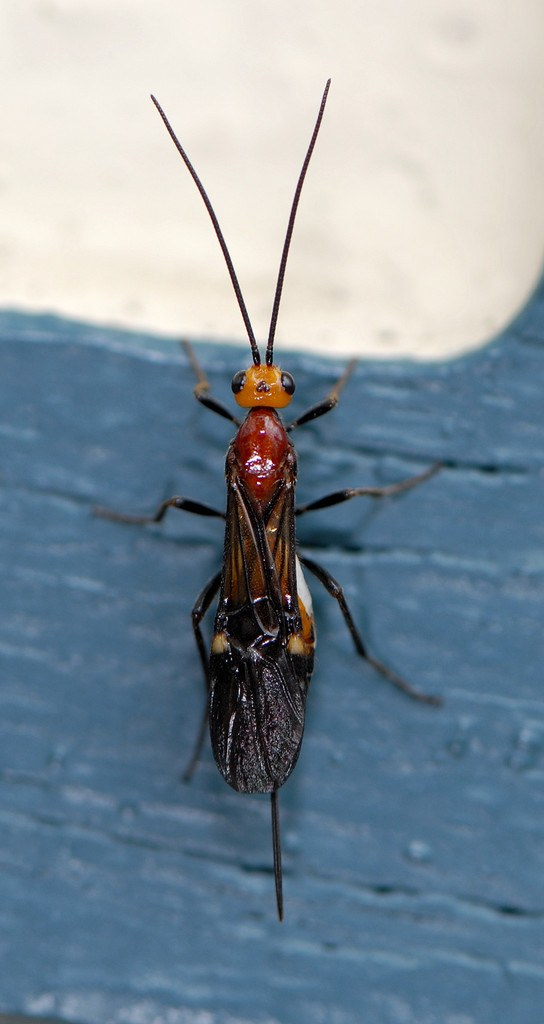insect: (90, 77, 448, 924)
